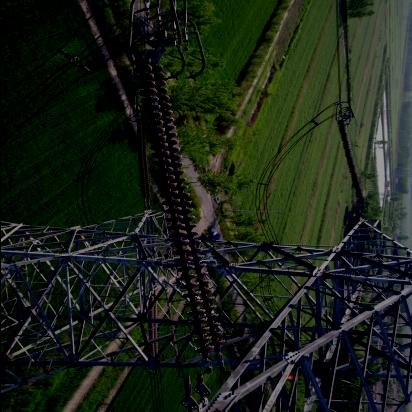insulator: (143, 46, 219, 378), (340, 120, 365, 212)
